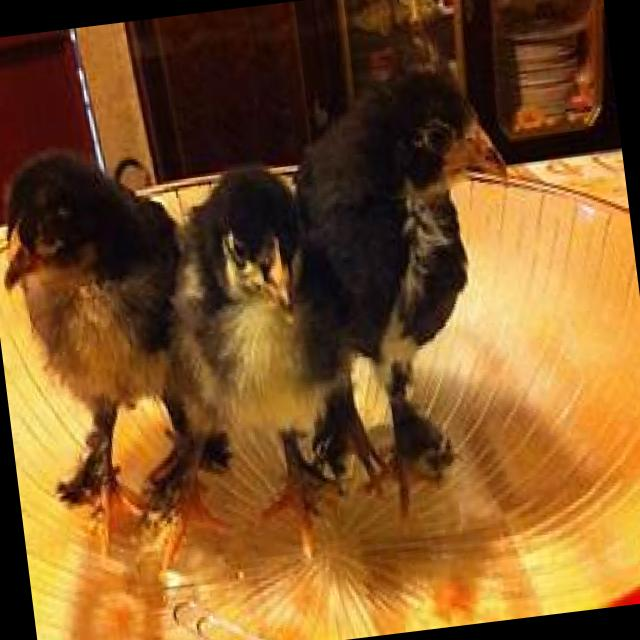animal: (289, 50, 549, 484), (0, 143, 210, 519), (140, 148, 353, 512), (588, 0, 590, 3)
